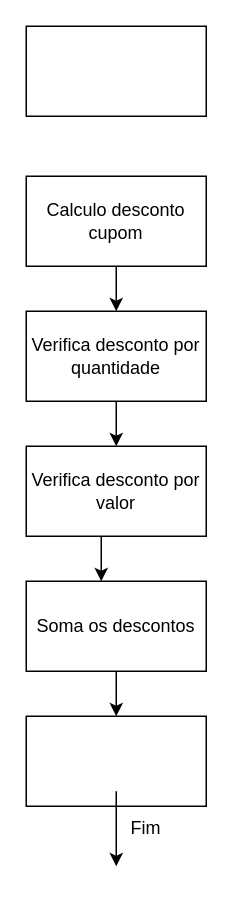
Some shapes in this 233 by 905 pixel diagram are drawn without their labels. Each missing label, with the centre of its shape:
Calculo subtotal: (x=115, y=70)
Exibe desconto: (x=115, y=760)
